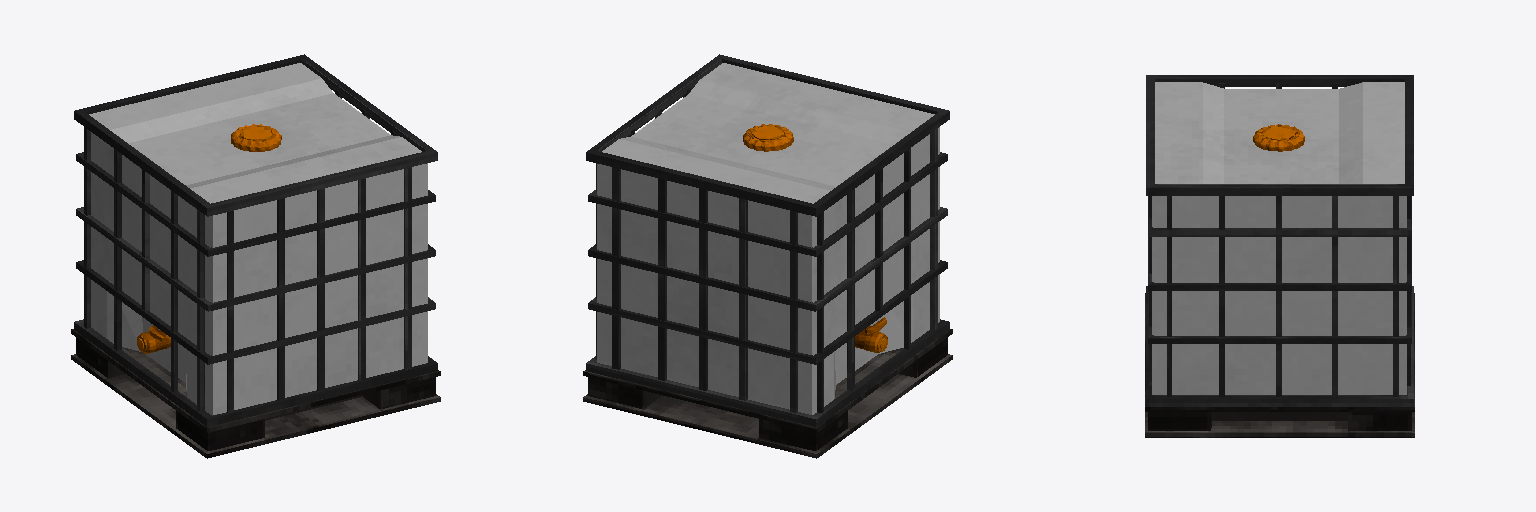
3 views of the same model, side by side, from view 1: azimuth 30°, elevation 25°; view 2: azimuth 150°, elevation 25°; view 3: azimuth 270°, elevation 25° (orthographic).
Visible parts, largest first — view 1: Water_Tank, Water_Tank.001, Water_Tank.002, Water_Tank.003; view 2: Water_Tank, Water_Tank.001, Water_Tank.002, Water_Tank.003, Water_Tank.005; view 3: Water_Tank, Water_Tank.001, Water_Tank.002, Water_Tank.003.
Part boxes in pixels (x1,y1,x2,y2): Water_Tank: (89, 63, 427, 415); Water_Tank.001: (74, 54, 437, 426); Water_Tank.002: (71, 329, 440, 458); Water_Tank.003: (231, 124, 281, 151); Water_Tank: (597, 63, 939, 414); Water_Tank.001: (586, 54, 949, 426); Water_Tank.002: (583, 329, 952, 458); Water_Tank.003: (743, 124, 793, 151); Water_Tank.005: (855, 329, 887, 352); Water_Tank: (1152, 82, 1406, 394); Water_Tank.001: (1146, 75, 1413, 406); Water_Tank.002: (1145, 293, 1414, 437); Water_Tank.003: (1253, 124, 1304, 151).
Size of the model in its own units: 0.9841 by 1 by 0.9876.
1 materials, 1 textured.